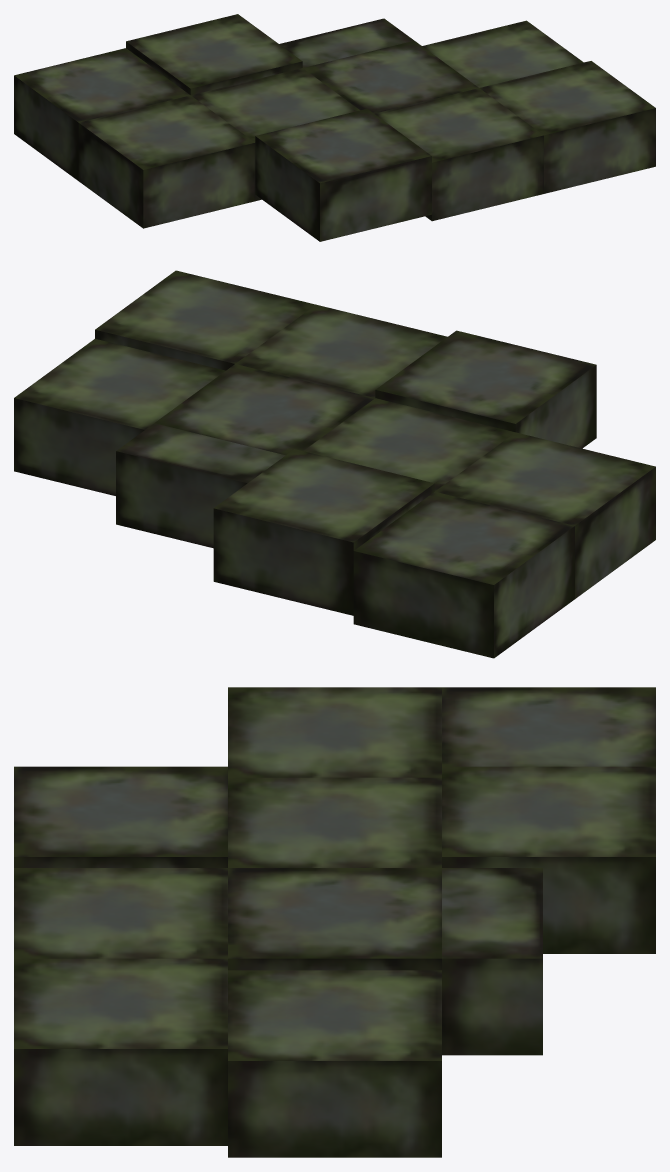
File: bridge-debris-02.fbx
The picture shows the model from 3 angles, top to bottom: view 1: azimuth 30°, elevation 25°; view 2: azimuth 150°, elevation 25°; view 3: azimuth 270°, elevation 25°; orthographic projection. The views are drawn at different scales.
Visible parts, largest first — view 1: bridge_debris_02; view 2: bridge_debris_02; view 3: bridge_debris_02.
Part boxes in pixels (bbox=[...]): bridge_debris_02: bbox=[14, 14, 655, 241]; bridge_debris_02: bbox=[14, 270, 655, 658]; bridge_debris_02: bbox=[14, 687, 655, 1157].
Size of the model in its own units: 400 by 61.84 by 300.
